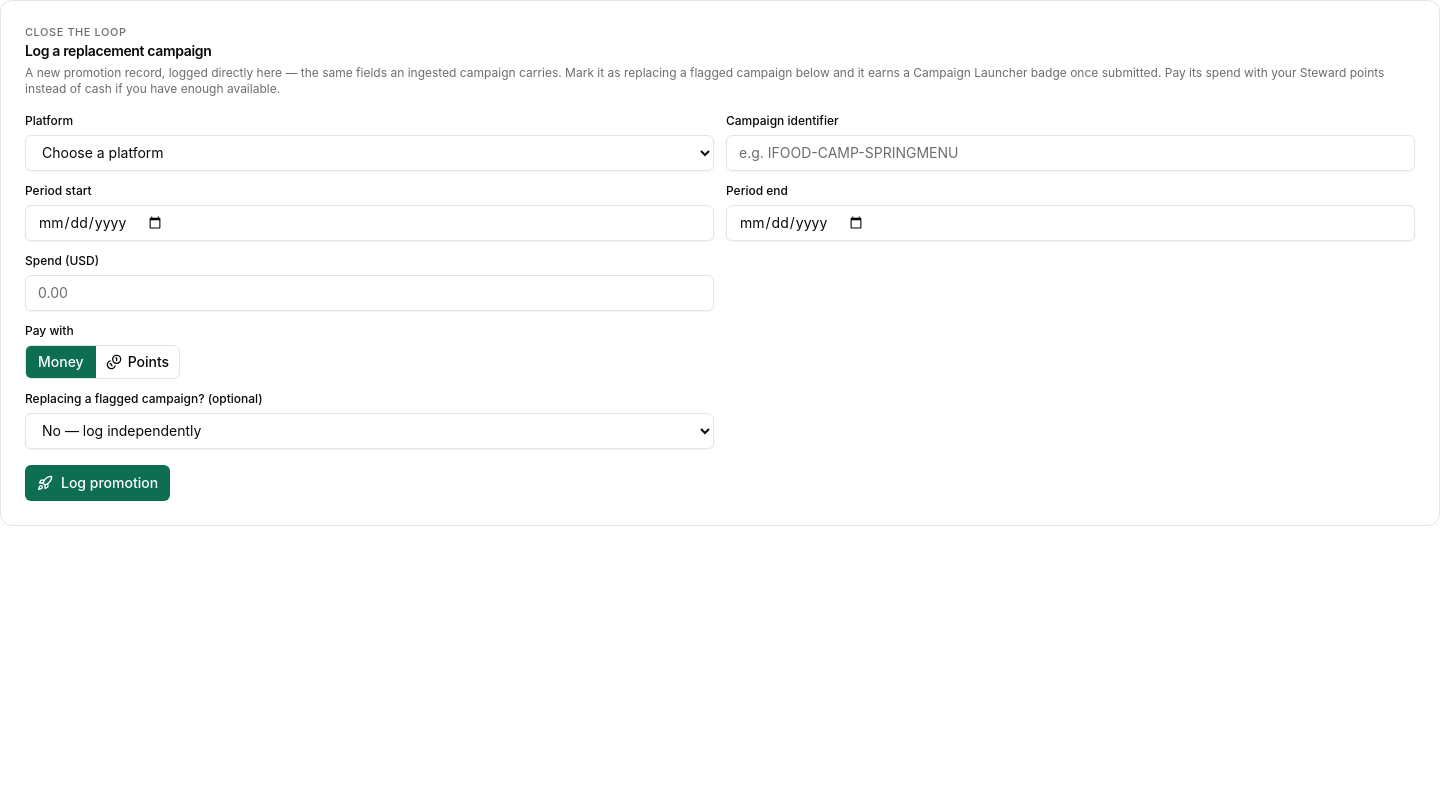
Test: LogReplacementForm › unsaved-changes guard › warns before an in-app navigation discards a real in-progress draft, and Cancel keeps the draft and stays on the page
Type "JET-CAMP-DRAFT" into the field labelled "Campaign identifier".
click(1070, 153); type("JET-CAMP-DRAFT")  # box top-left (726, 135), bottom-right (1415, 171)
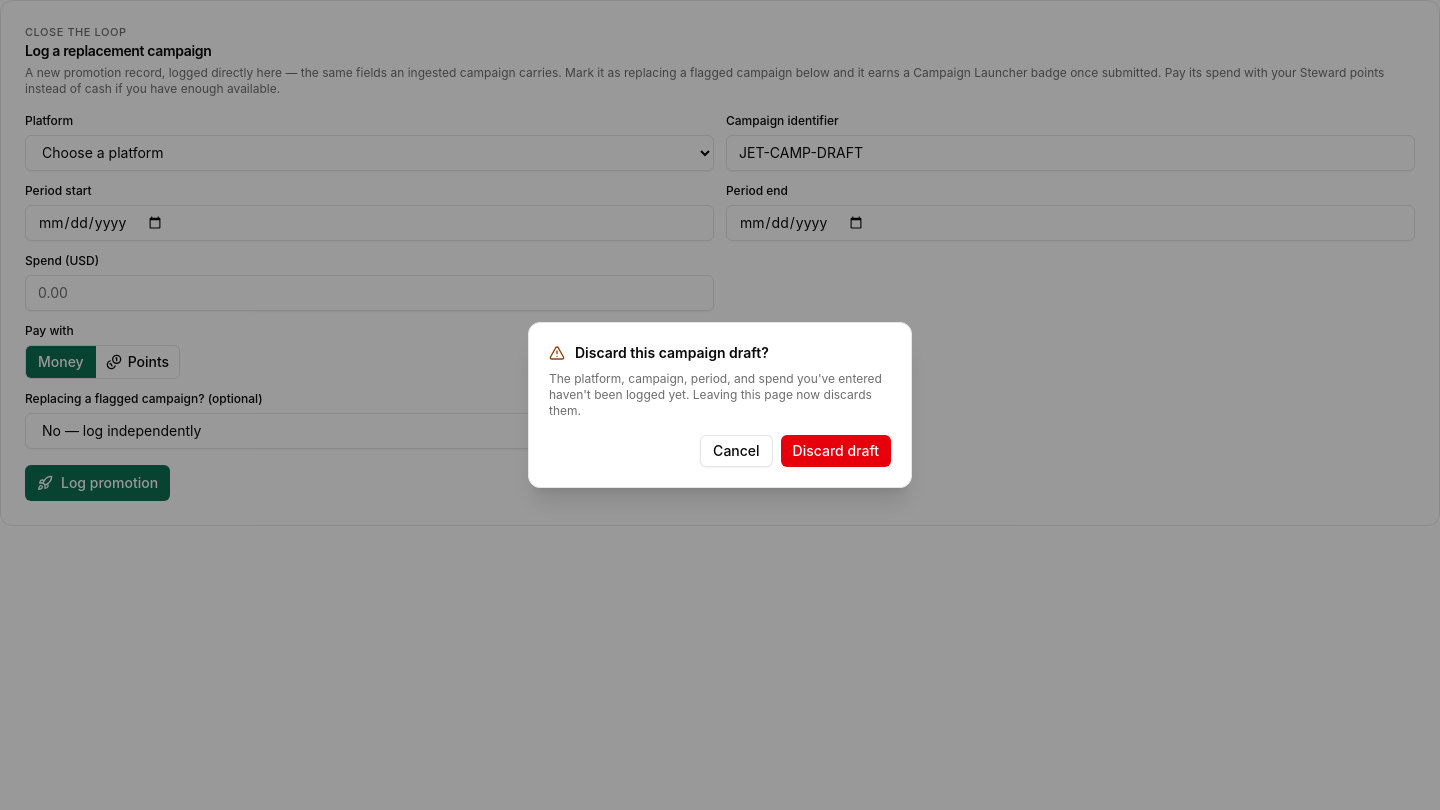
Result: the dialog shows "Discard this campaign draft" at top-left (575, 344), bottom-right (769, 361)
Click the button "Cancel".
click(736, 451)  # box top-left (700, 435), bottom-right (773, 467)
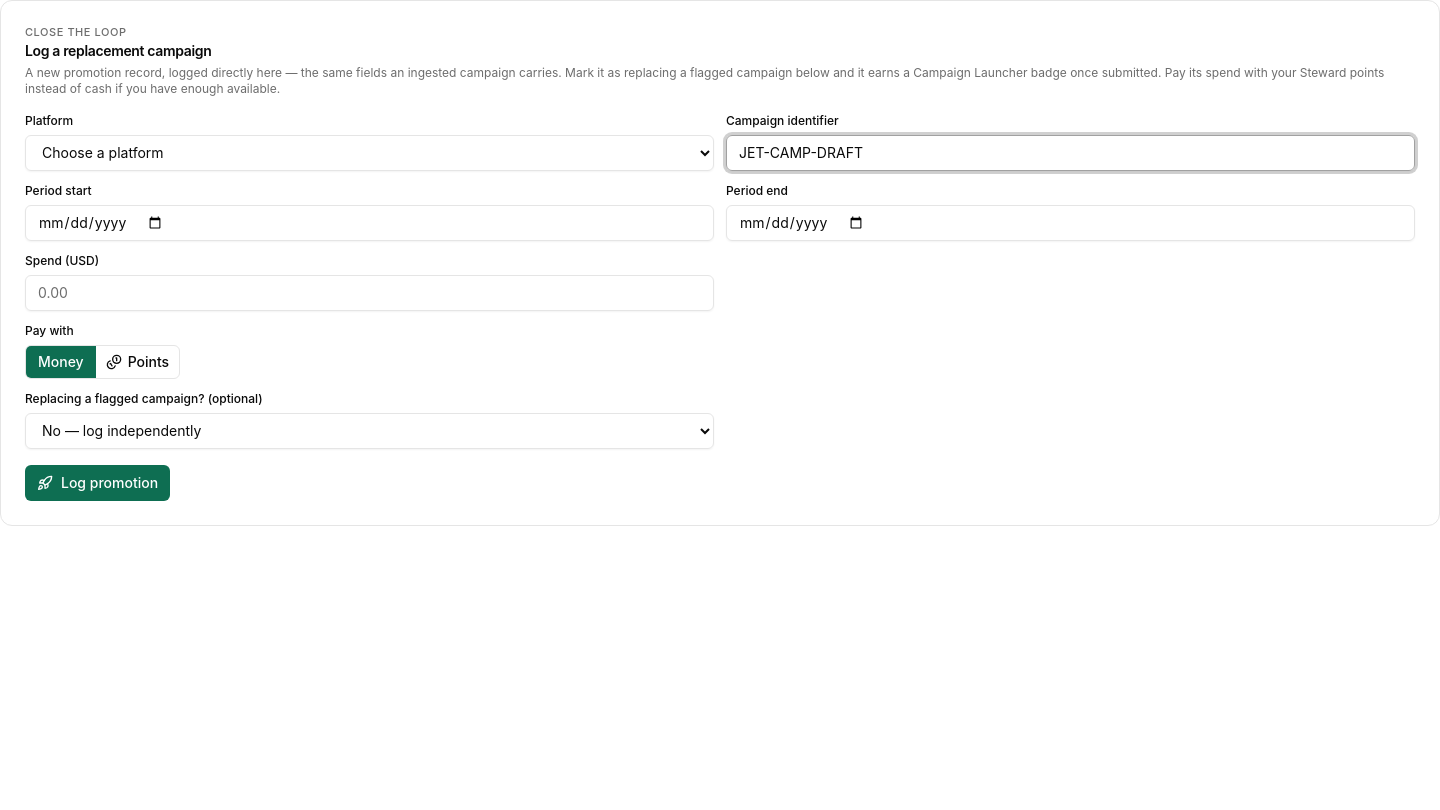
Result: the dialog is gone
